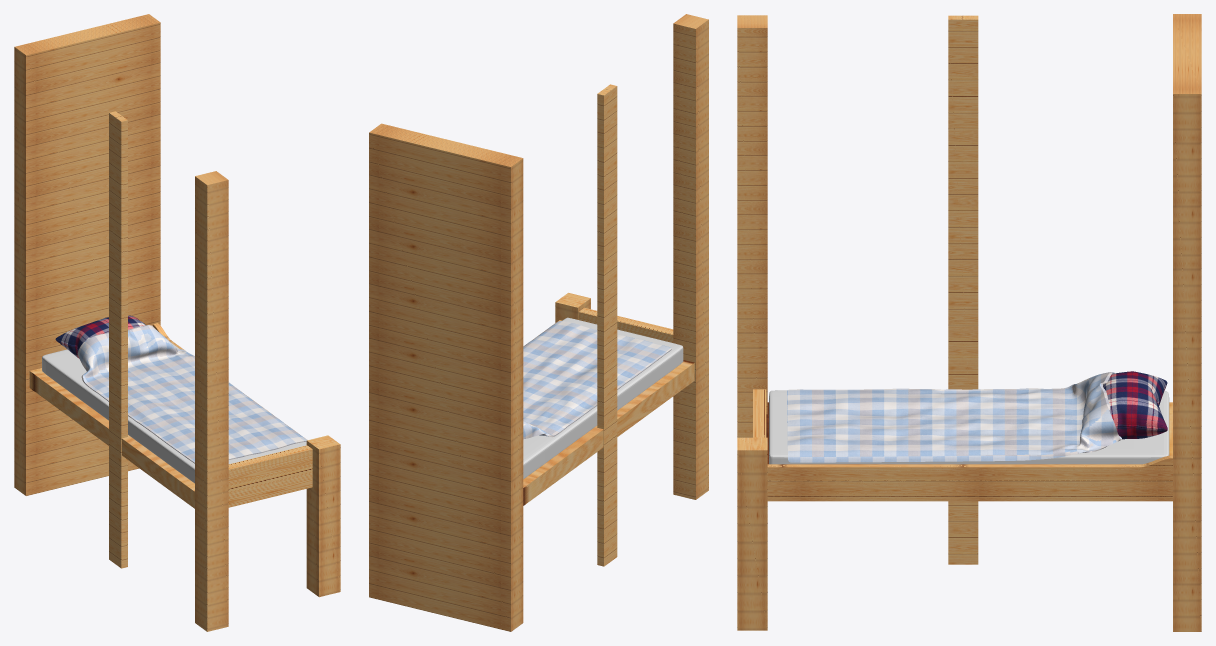
The model's file is bed.glb.
3 views of the same model, side by side, from view 1: azimuth 30°, elevation 25°; view 2: azimuth 150°, elevation 25°; view 3: azimuth 270°, elevation 25° (orthographic). The views are drawn at different scales.
Parts seen in each view (by area): view 1: Cube.001, Cube.003, Plane.001, Cube.004, Cube.002, Cube, Cube.005, Mattress, Plane; view 2: Cube.001, Cube.003, Cube.004, Plane.001, Cube, Mattress, Cube.005, Cube.002; view 3: Plane.001, Cube.001, Cube.006, Cube.004, Cube.003, Cube.002, Mattress, Plane, Cube.005.
Part boxes in pixels (x1,y1,x2,y2): Cube.001: (14, 14, 160, 495); Cube.003: (195, 171, 228, 631); Plane.001: (77, 325, 306, 463); Cube.004: (109, 111, 127, 568); Cube.002: (306, 435, 340, 597); Cube: (29, 368, 194, 508); Cube.005: (228, 445, 312, 507); Mattress: (42, 342, 306, 483); Plane: (55, 315, 145, 358); Cube.001: (369, 123, 523, 631); Cube.003: (673, 14, 708, 499); Cube.004: (597, 84, 617, 566); Plane.001: (523, 321, 671, 439); Cube: (523, 360, 694, 505); Mattress: (523, 317, 683, 478); Cube.005: (578, 307, 673, 342); Cube.002: (555, 292, 590, 322); Plane.001: (787, 372, 1121, 462); Cube.001: (1173, 14, 1201, 631); Cube.006: (767, 455, 1172, 501); Cube.004: (948, 15, 978, 564); Cube.003: (737, 15, 767, 437); Cube.002: (737, 437, 767, 630); Mattress: (769, 390, 1169, 464); Plane: (1103, 371, 1167, 439); Cube.005: (753, 389, 766, 437).
Bounding box in the file's own units: 3.25 × 10.23 × 7.89.
4 materials, 3 textured.
